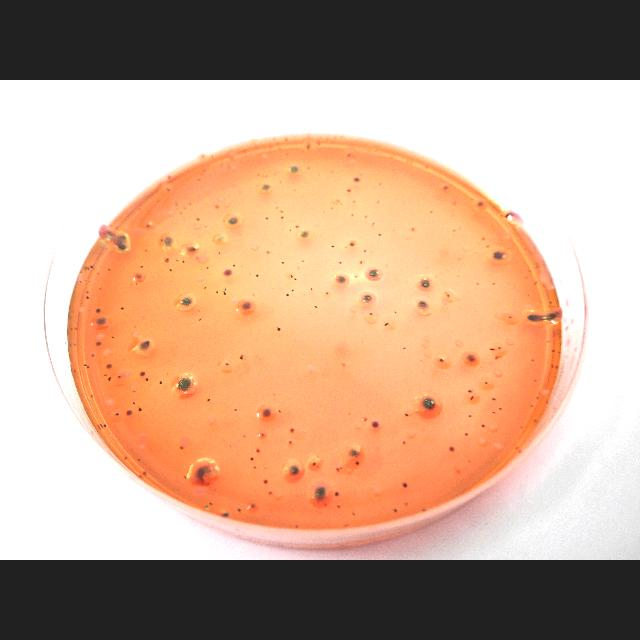colony: (175, 374, 195, 394), (194, 462, 212, 483), (314, 484, 328, 502), (420, 396, 438, 410), (418, 276, 432, 288), (490, 250, 506, 260), (179, 296, 195, 306), (288, 464, 300, 476), (261, 407, 273, 419), (526, 313, 540, 323), (348, 448, 362, 458), (164, 237, 174, 250), (139, 340, 151, 350), (95, 316, 107, 326), (335, 274, 347, 284), (361, 294, 373, 304), (368, 268, 380, 278), (240, 300, 252, 310), (547, 311, 557, 321), (418, 300, 428, 310), (370, 420, 380, 430), (288, 165, 300, 173), (260, 183, 272, 191), (227, 216, 239, 224), (466, 353, 476, 362), (300, 230, 310, 238), (223, 268, 233, 276), (117, 242, 127, 250), (442, 183, 451, 191), (186, 246, 198, 252), (448, 445, 456, 453), (477, 200, 485, 208), (119, 234, 127, 242), (125, 409, 133, 416), (222, 512, 230, 518), (204, 504, 210, 512), (353, 177, 361, 183), (134, 273, 142, 279), (289, 426, 295, 434), (218, 235, 225, 241), (106, 363, 112, 369), (95, 308, 101, 314), (142, 470, 148, 476), (255, 447, 261, 453), (250, 502, 256, 508), (392, 507, 398, 513), (402, 482, 408, 488), (438, 357, 444, 363), (238, 354, 244, 360), (346, 152, 352, 158), (174, 202, 180, 208), (532, 280, 538, 286), (214, 204, 220, 210), (404, 412, 410, 418), (354, 460, 360, 466), (306, 144, 310, 152), (96, 342, 102, 346), (107, 376, 111, 382), (140, 372, 146, 376), (114, 412, 120, 416), (138, 407, 142, 413), (97, 424, 101, 430), (136, 458, 142, 462), (237, 507, 241, 513), (334, 492, 340, 496), (480, 424, 486, 428), (520, 424, 524, 430), (492, 396, 496, 402), (489, 347, 495, 351), (490, 282, 496, 286), (480, 237, 486, 241), (410, 227, 416, 231), (346, 189, 352, 193), (349, 242, 355, 246), (277, 326, 281, 332), (403, 502, 409, 506), (295, 524, 299, 530), (312, 461, 316, 467), (260, 432, 266, 436), (278, 408, 282, 414), (206, 398, 212, 402), (111, 335, 115, 339), (91, 353, 95, 357), (120, 307, 124, 311), (86, 296, 90, 300), (78, 280, 82, 284), (90, 394, 94, 398), (132, 401, 136, 405), (100, 424, 104, 428), (180, 446, 184, 450), (264, 480, 268, 484), (268, 491, 272, 495), (250, 457, 254, 461), (209, 502, 213, 506), (351, 512, 355, 516), (422, 508, 426, 512), (464, 432, 468, 436), (468, 414, 472, 418), (530, 404, 534, 408), (484, 381, 488, 385), (468, 389, 472, 393), (470, 396, 474, 400), (494, 356, 498, 360), (531, 358, 535, 362), (550, 364, 554, 368), (508, 316, 512, 320), (548, 300, 552, 304), (486, 245, 490, 249), (352, 200, 356, 204), (336, 199, 340, 203), (331, 244, 335, 248), (290, 274, 294, 278), (354, 275, 358, 279), (369, 312, 373, 316), (266, 250, 270, 254), (160, 238, 164, 242), (175, 259, 179, 263), (384, 322, 388, 326), (402, 346, 406, 350), (225, 362, 229, 366), (265, 216, 269, 220), (280, 216, 284, 220), (188, 202, 192, 206), (167, 188, 171, 192), (167, 175, 171, 179), (197, 178, 201, 182), (527, 269, 531, 273), (524, 276, 528, 280), (552, 304, 556, 308), (555, 365, 559, 369), (533, 419, 537, 423), (514, 446, 518, 450), (467, 459, 471, 463), (165, 260, 169, 264), (146, 224, 150, 228), (275, 206, 279, 210), (284, 137, 288, 141), (317, 141, 321, 145), (363, 418, 367, 422), (402, 441, 406, 445), (288, 440, 292, 444), (234, 408, 238, 412), (223, 288, 227, 292), (215, 290, 219, 294), (198, 318, 202, 322), (124, 456, 128, 459), (253, 466, 257, 469), (497, 346, 501, 349), (429, 210, 433, 213), (351, 213, 354, 217), (376, 200, 379, 204), (338, 262, 344, 264), (232, 264, 235, 268), (207, 266, 210, 270), (132, 391, 136, 394), (280, 210, 284, 213), (183, 207, 187, 210), (264, 175, 268, 178), (546, 341, 550, 344), (446, 294, 449, 298), (378, 182, 382, 185), (426, 164, 428, 170), (339, 466, 343, 469), (242, 434, 245, 438), (86, 366, 90, 368), (104, 374, 108, 376), (160, 381, 162, 385), (86, 292, 90, 294), (98, 288, 102, 290), (90, 266, 94, 268), (97, 272, 99, 276), (84, 280, 88, 282), (88, 309, 90, 313), (74, 328, 78, 330), (70, 328, 74, 330), (69, 344, 73, 346), (104, 424, 106, 428), (184, 476, 186, 480), (338, 504, 340, 508), (492, 412, 496, 414), (498, 408, 502, 410), (536, 395, 538, 399), (533, 380, 537, 382), (551, 350, 555, 352), (452, 230, 456, 232), (364, 216, 368, 218), (378, 234, 382, 236), (360, 260, 362, 264), (301, 260, 305, 262), (281, 262, 285, 264), (293, 278, 297, 280), (314, 306, 318, 308), (286, 294, 290, 296), (292, 288, 294, 292), (255, 274, 259, 276), (218, 251, 220, 255), (182, 260, 184, 264), (394, 310, 396, 314), (295, 226, 299, 228), (179, 212, 183, 214), (196, 218, 200, 220), (196, 256, 198, 260), (136, 282, 138, 286), (170, 268, 172, 272), (258, 173, 260, 177), (280, 180, 282, 184), (526, 294, 530, 296), (140, 266, 144, 268), (144, 249, 148, 251), (477, 282, 479, 286), (88, 267, 90, 271), (221, 162, 223, 166), (229, 444, 231, 448), (272, 394, 276, 396), (204, 286, 206, 290), (558, 351, 560, 354), (372, 222, 374, 225), (331, 207, 334, 209), (205, 225, 208, 227), (262, 175, 264, 178), (308, 167, 310, 170), (167, 258, 170, 260), (84, 364, 86, 366), (118, 376, 120, 378), (146, 378, 148, 380), (166, 373, 168, 375), (108, 269, 110, 271), (88, 281, 90, 283), (74, 344, 76, 346), (74, 370, 76, 372), (364, 250, 366, 252), (310, 288, 312, 290), (326, 292, 328, 294), (290, 229, 292, 231), (223, 220, 225, 222), (348, 413, 350, 415), (336, 468, 338, 470), (252, 294, 254, 296), (224, 293, 226, 295)
